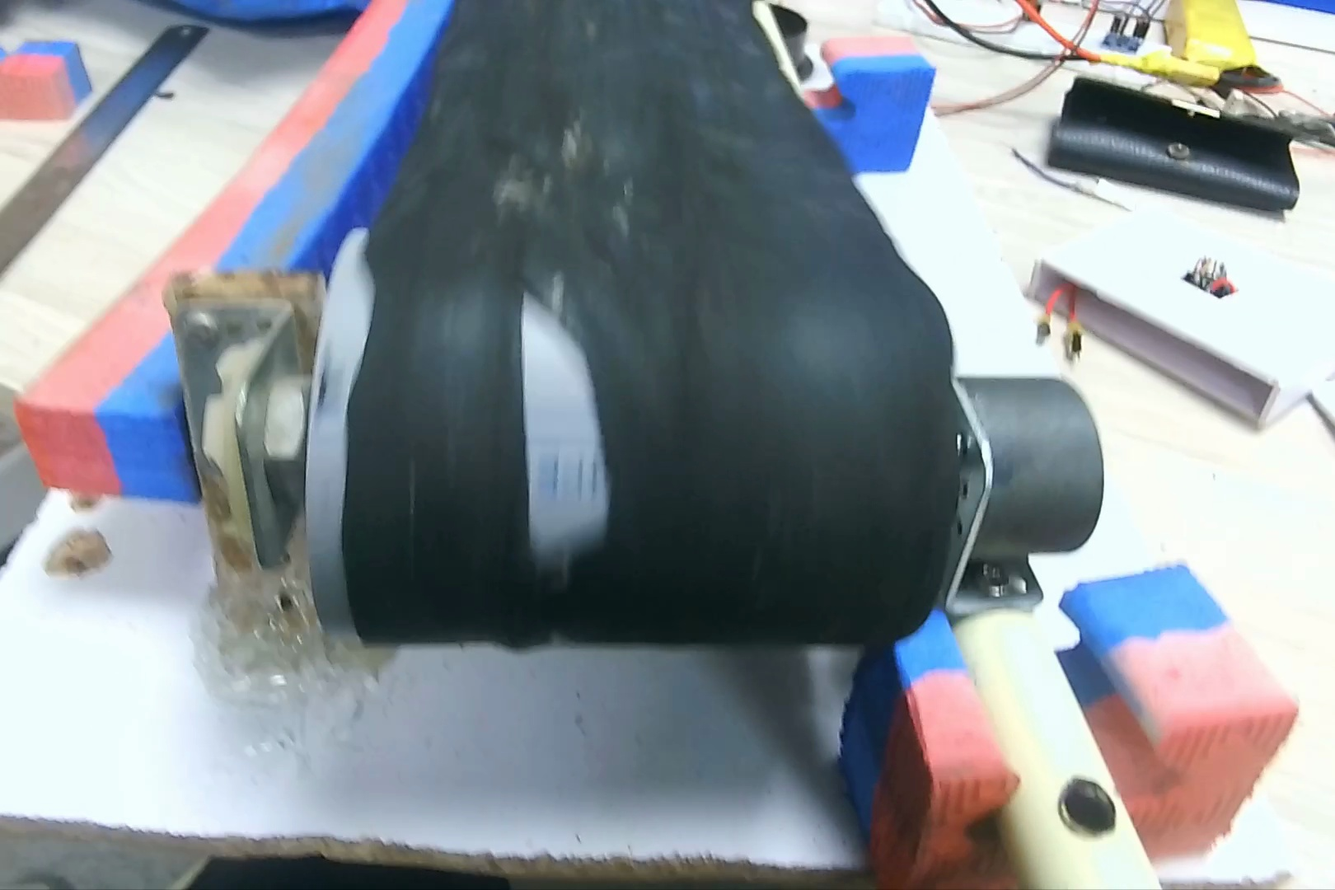tear: (517, 292, 606, 569), (522, 293, 596, 501), (1091, 136, 1163, 159)
